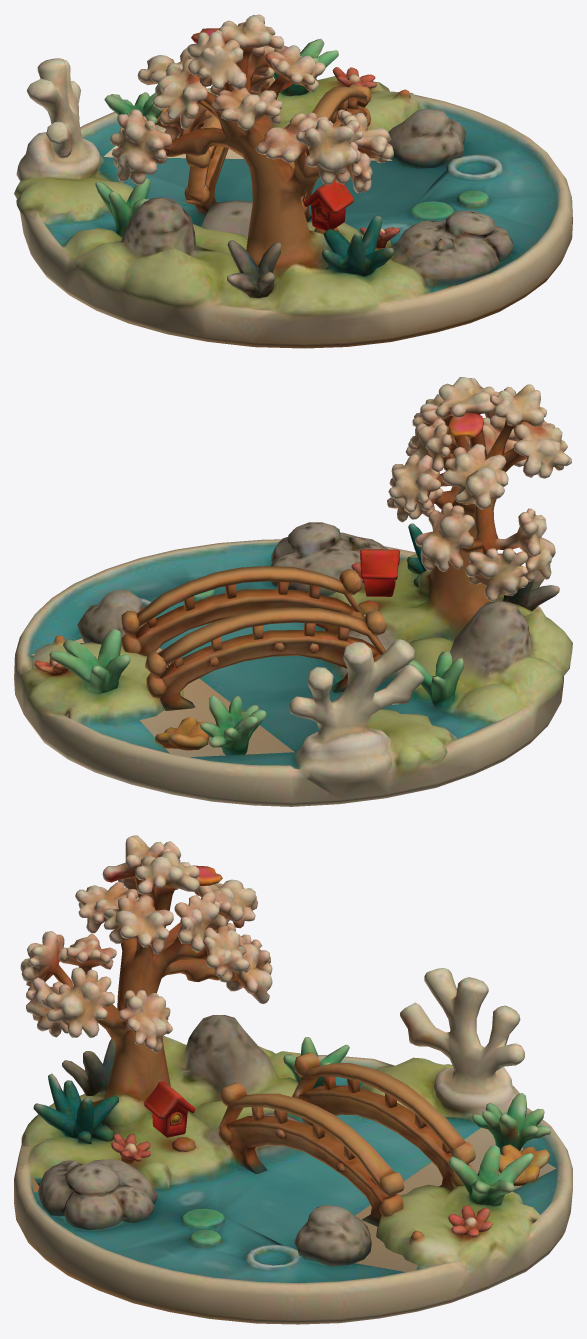
File: garden.glb
3 renders of one model, top to bottom at view 1: azimuth 30°, elevation 25°; view 2: azimuth 150°, elevation 25°; view 3: azimuth 270°, elevation 25°, orthographic.
Parts seen in each view (by area): view 1: tripo_node_aada3a89-960a-4d11-8871-1e0c0c2c5d8f; view 2: tripo_node_aada3a89-960a-4d11-8871-1e0c0c2c5d8f; view 3: tripo_node_aada3a89-960a-4d11-8871-1e0c0c2c5d8f.
Boxes of the visible parts, <box> form: tripo_node_aada3a89-960a-4d11-8871-1e0c0c2c5d8f: <box>14,14,572,348</box>; tripo_node_aada3a89-960a-4d11-8871-1e0c0c2c5d8f: <box>14,377,572,806</box>; tripo_node_aada3a89-960a-4d11-8871-1e0c0c2c5d8f: <box>14,835,572,1324</box>.
Size of the model in its own units: 0.998 by 0.584 by 0.998.
Materials: 1 (1 with a texture image).
